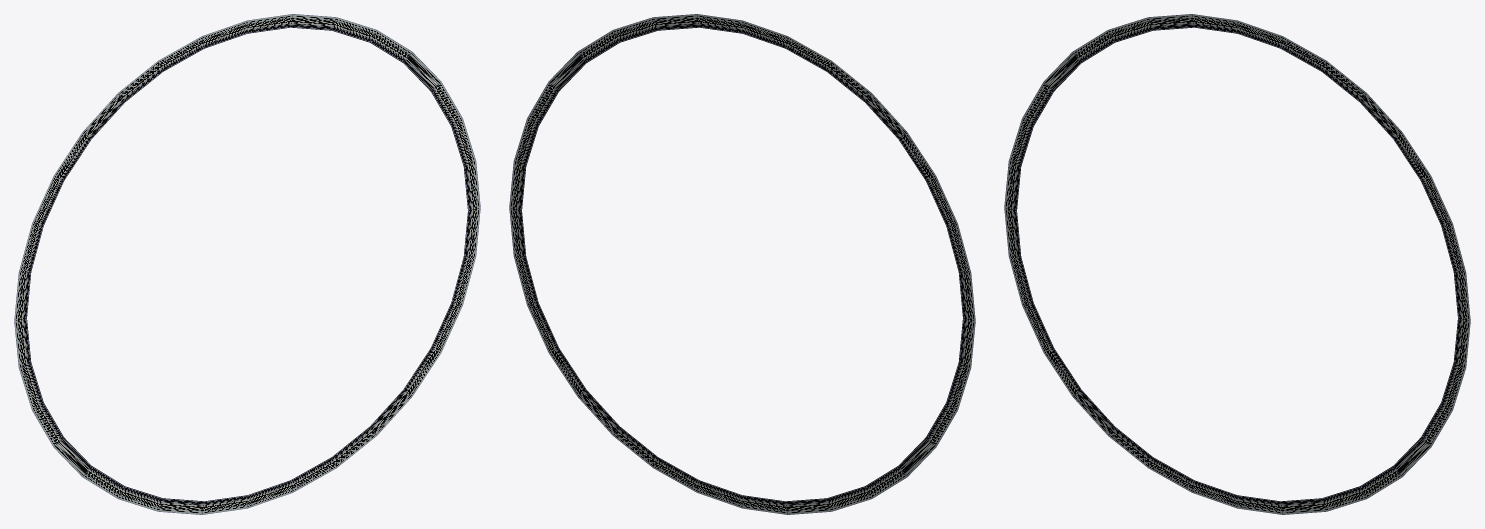
The model's file is uranus_ring.glb.
3 renders of one model, left to right at view 1: azimuth 30°, elevation 25°; view 2: azimuth 150°, elevation 25°; view 3: azimuth 330°, elevation 25°, orthographic.
Parts seen in each view (by area): view 1: Cylinder; view 2: Cylinder; view 3: Cylinder.
Part boxes in pixels (x1,y1,x2,y2): Cylinder: (14,14,480,514); Cylinder: (509,14,975,514); Cylinder: (1004,14,1470,514).
Size of the model in its own units: 4 by 4 by 1.91e-07.
Materials: 1 (1 with a texture image).
